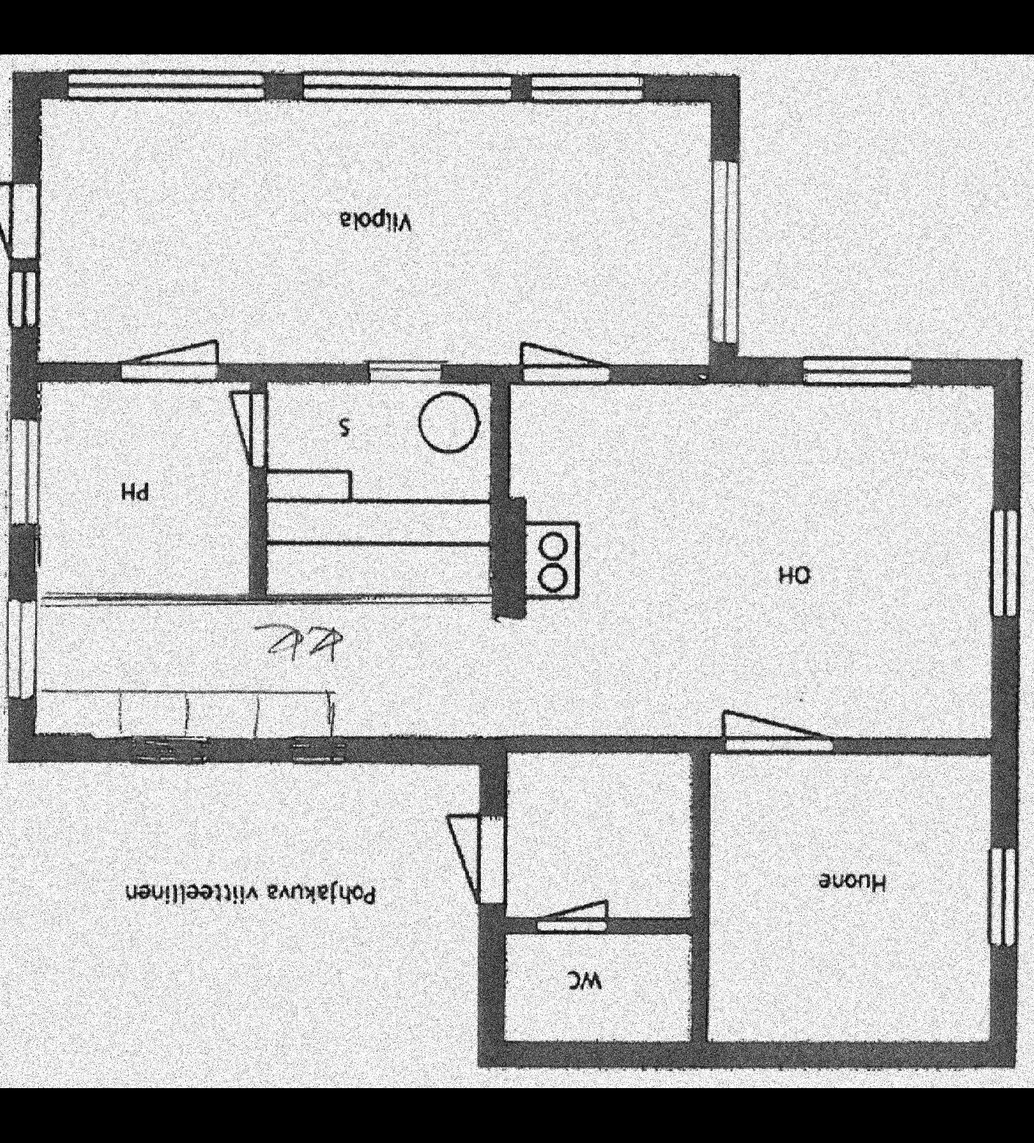door: (115, 338, 221, 401), (439, 810, 508, 903), (723, 709, 836, 763), (515, 338, 614, 393), (533, 892, 614, 947), (223, 398, 265, 469), (0, 184, 36, 258)
window: (310, 74, 512, 102), (709, 163, 737, 336), (67, 73, 266, 97), (3, 605, 44, 698), (988, 510, 1021, 616), (7, 424, 38, 525), (524, 74, 641, 98), (807, 360, 907, 386), (991, 846, 1015, 942), (366, 362, 440, 382), (10, 274, 30, 327)
zone: (35, 382, 992, 737), (45, 98, 709, 360), (709, 755, 993, 1042), (268, 384, 490, 598), (39, 379, 248, 598), (504, 751, 693, 917), (501, 935, 695, 1037)
